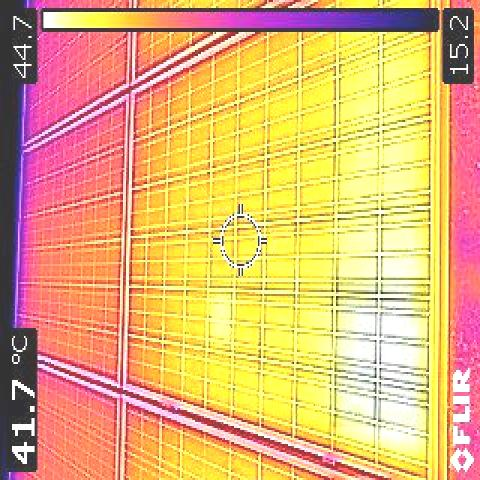fault: (332, 277, 426, 427)
